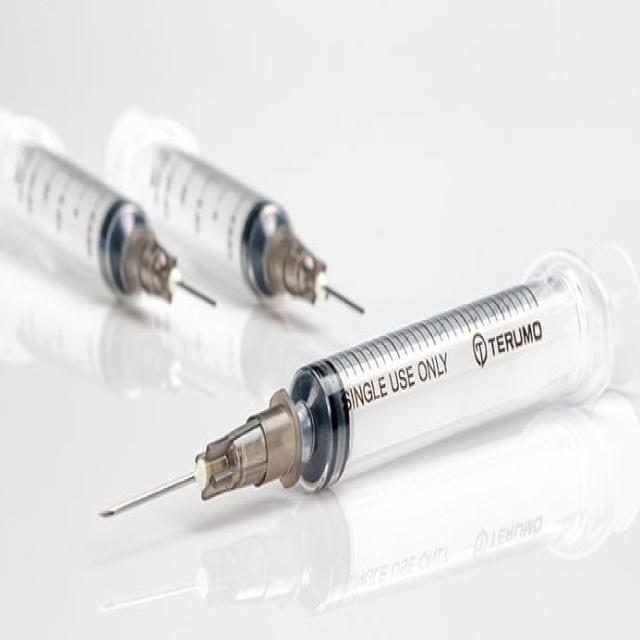syringe: (97, 242, 637, 520), (103, 106, 366, 318), (0, 103, 217, 314)
